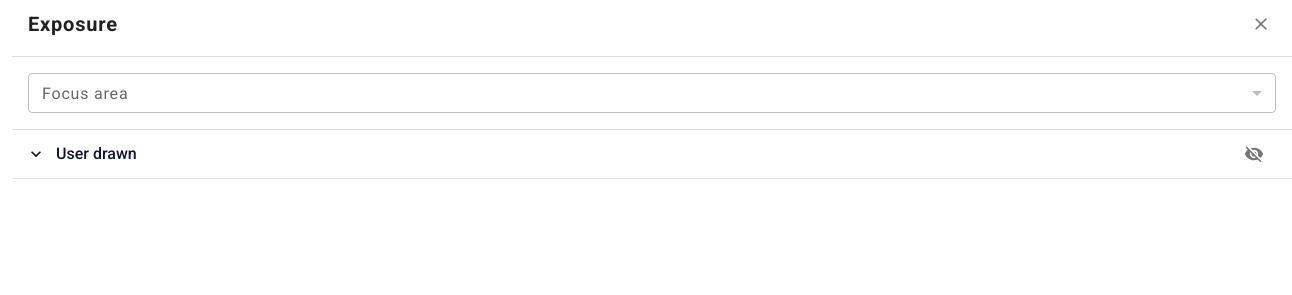
Test: ExposureView › Send to Data Room › shows Send to Data Room button for unpublished user-drawn layers
This screenshot has width=1292, height=295.
Expected: the text "User drawn" is shown, [56,144,137,163]
Click the button "User drawn": (96, 154) [12,130,1216,178]
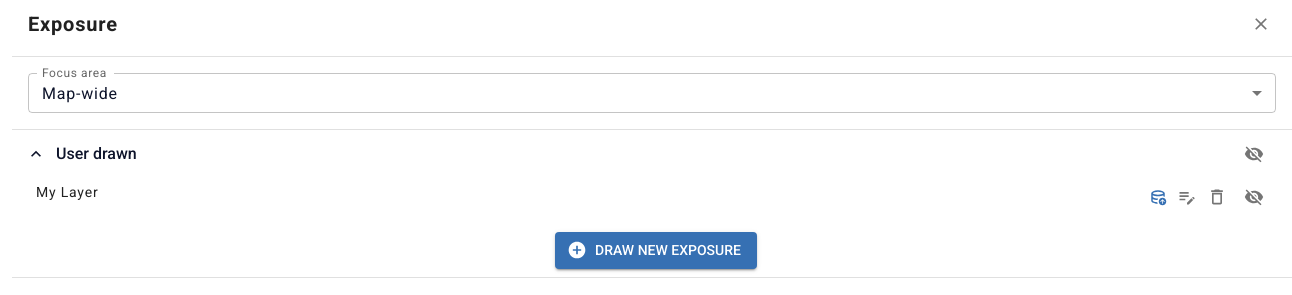
Expected: the button named "Send to Data Room" is shown, [1144,183,1172,211]
Expected: the button named "Edit layer name" is shown, [1172,182,1202,212]
Expected: the button named "Delete layer" is shown, [1202,182,1232,212]
